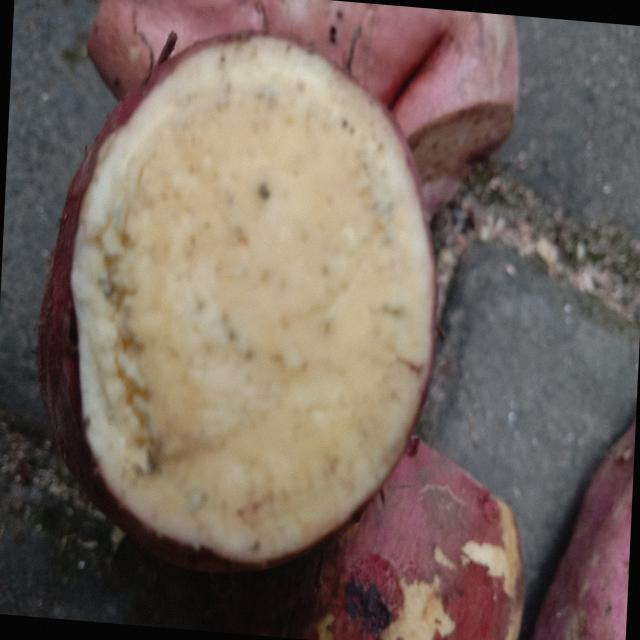Healthy Sweet Potato: (72, 37, 434, 562)
